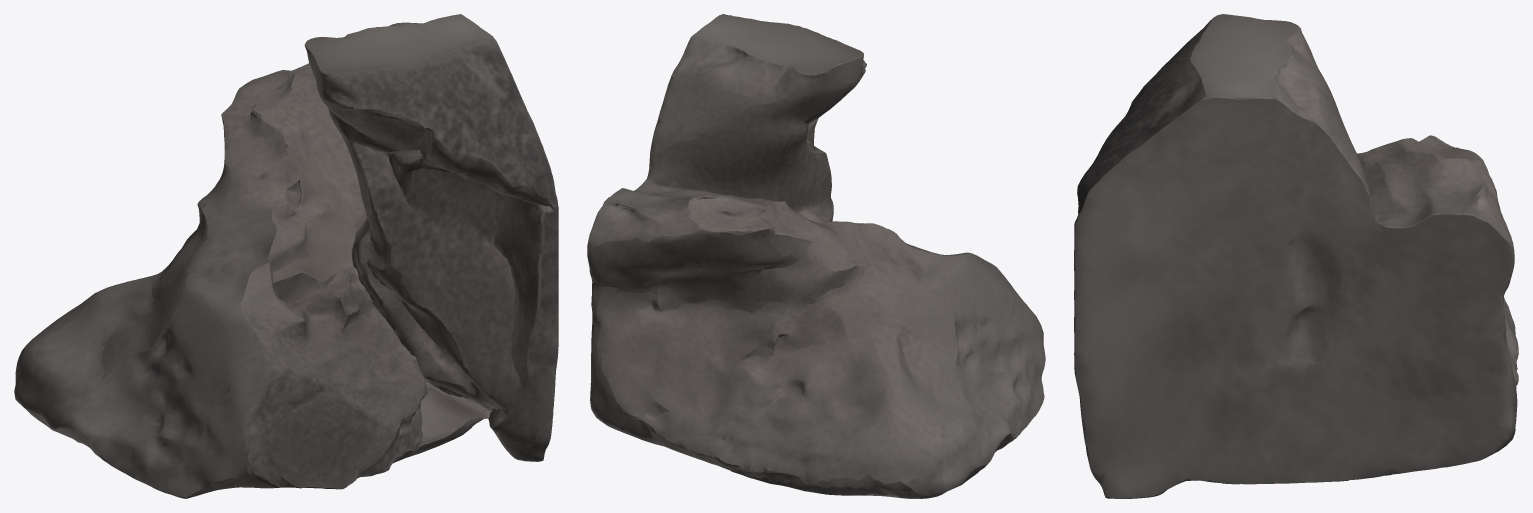
The picture shows the model from 3 angles, left to right: view 1: azimuth 30°, elevation 25°; view 2: azimuth 150°, elevation 25°; view 3: azimuth 270°, elevation 25°; orthographic projection. The views are drawn at different scales.
Visible parts, largest first — view 1: world; view 2: world; view 3: world.
Part boxes in pixels (x1,y1,x2,y2): world: (14,14,558,498); world: (587,14,1045,498); world: (1074,14,1518,498).
Size of the model in its own units: 0.8 by 0.802 by 0.803.
1 material, 1 textured.
